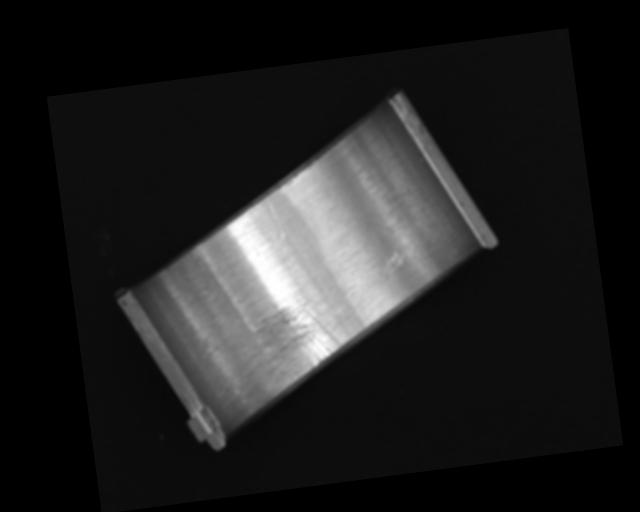bruise: (375, 249, 406, 276)
nick: (268, 199, 285, 240)
scratch: (242, 293, 349, 409)
